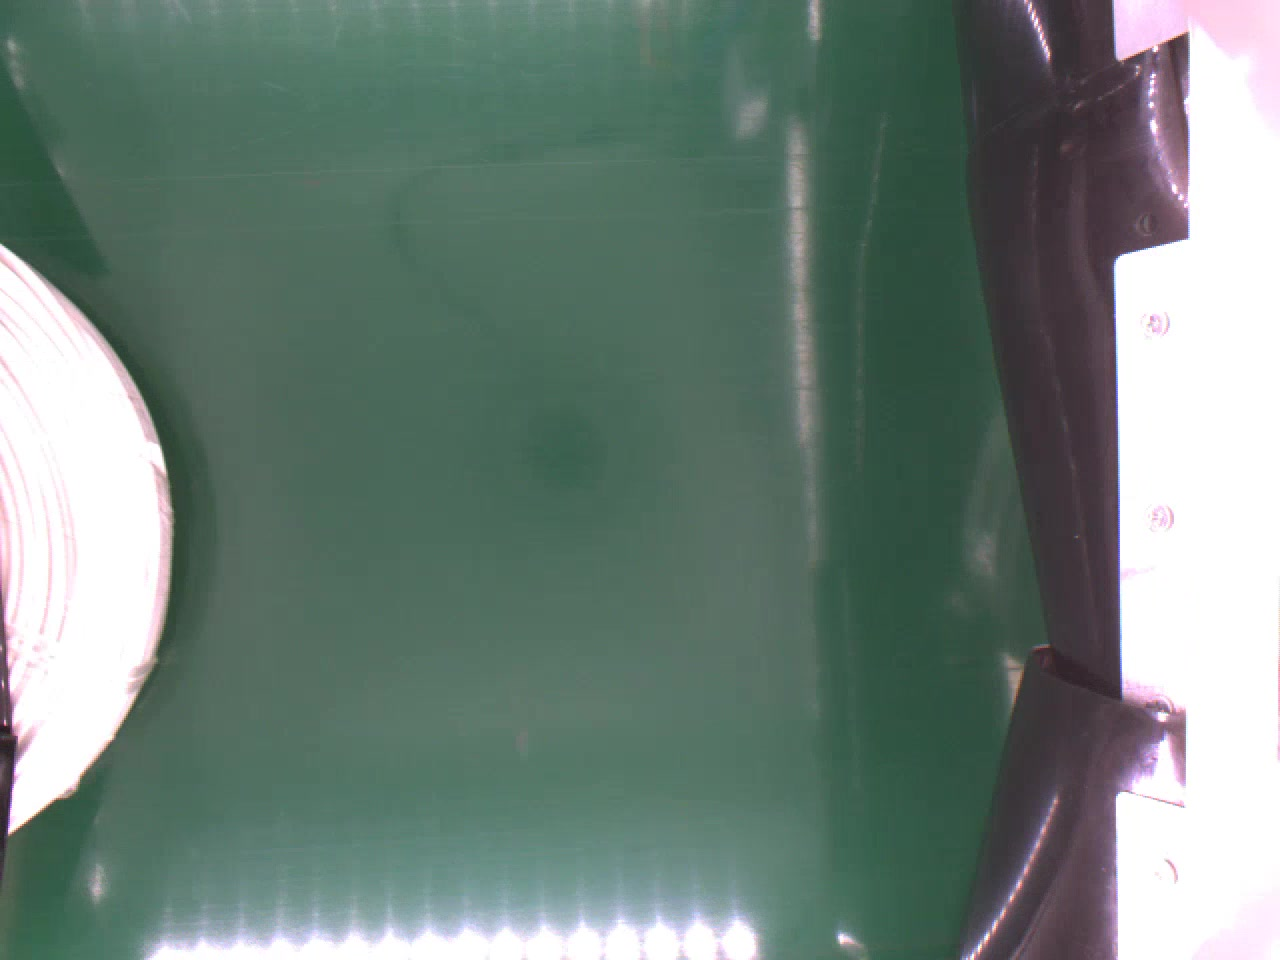white: (0, 233, 179, 830)
